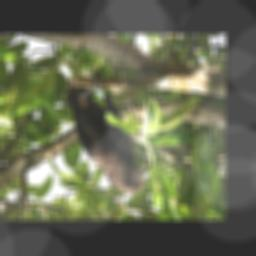Crow: (65, 76, 154, 198)
